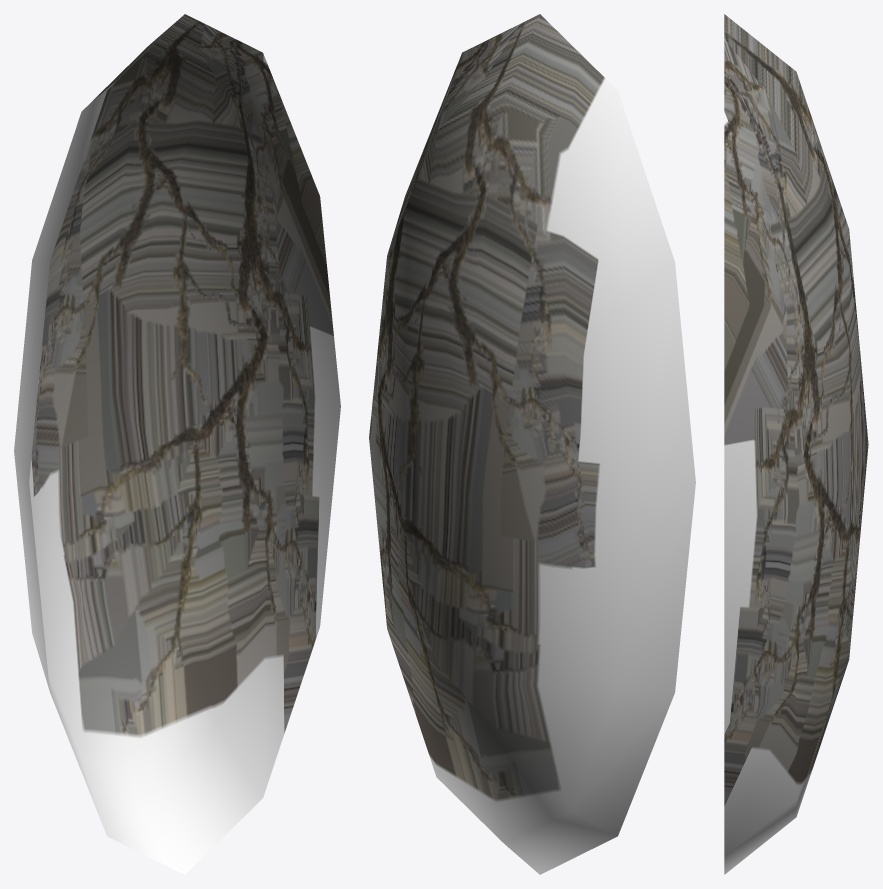
The picture shows the model from 3 angles, left to right: view 1: azimuth 30°, elevation 25°; view 2: azimuth 150°, elevation 25°; view 3: azimuth 270°, elevation 25°; orthographic projection.
Visible parts, largest first — view 1: root4; view 2: root4; view 3: root4.
Part boxes in pixels (x1,y1,x2,y2): root4: (14, 14, 340, 874); root4: (369, 14, 695, 874); root4: (724, 14, 868, 874).
Size of the model in its own units: 34.7 by 91.55 by 13.89.
